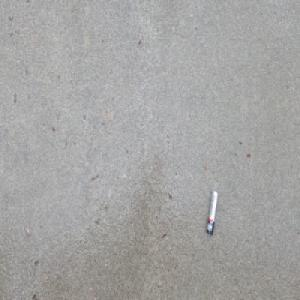Battery: (205, 188, 219, 236)
